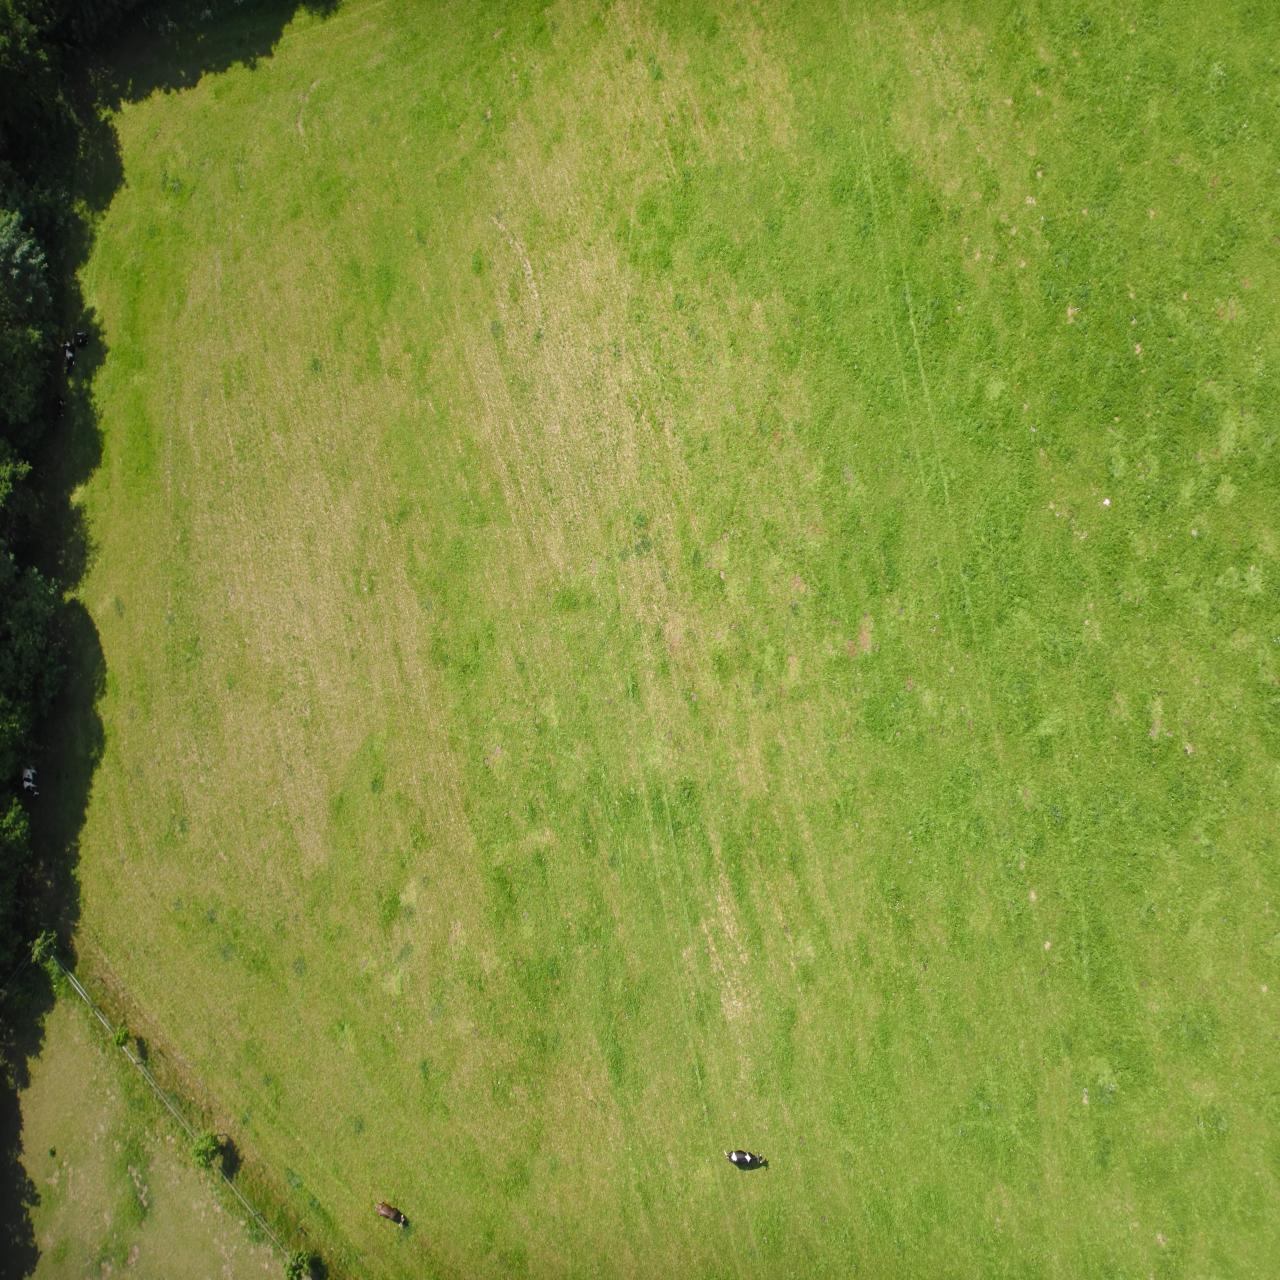cow: (874, 53, 904, 79), (517, 115, 556, 131)
